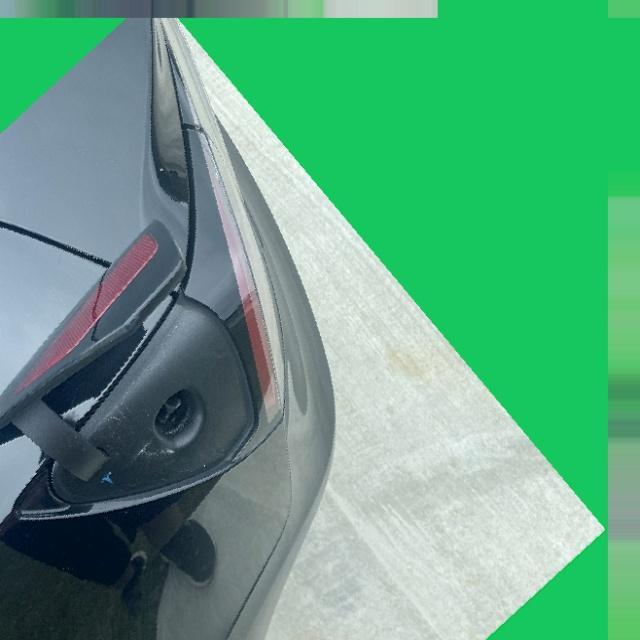Tesla Model-S-: (136, 386, 222, 459)
